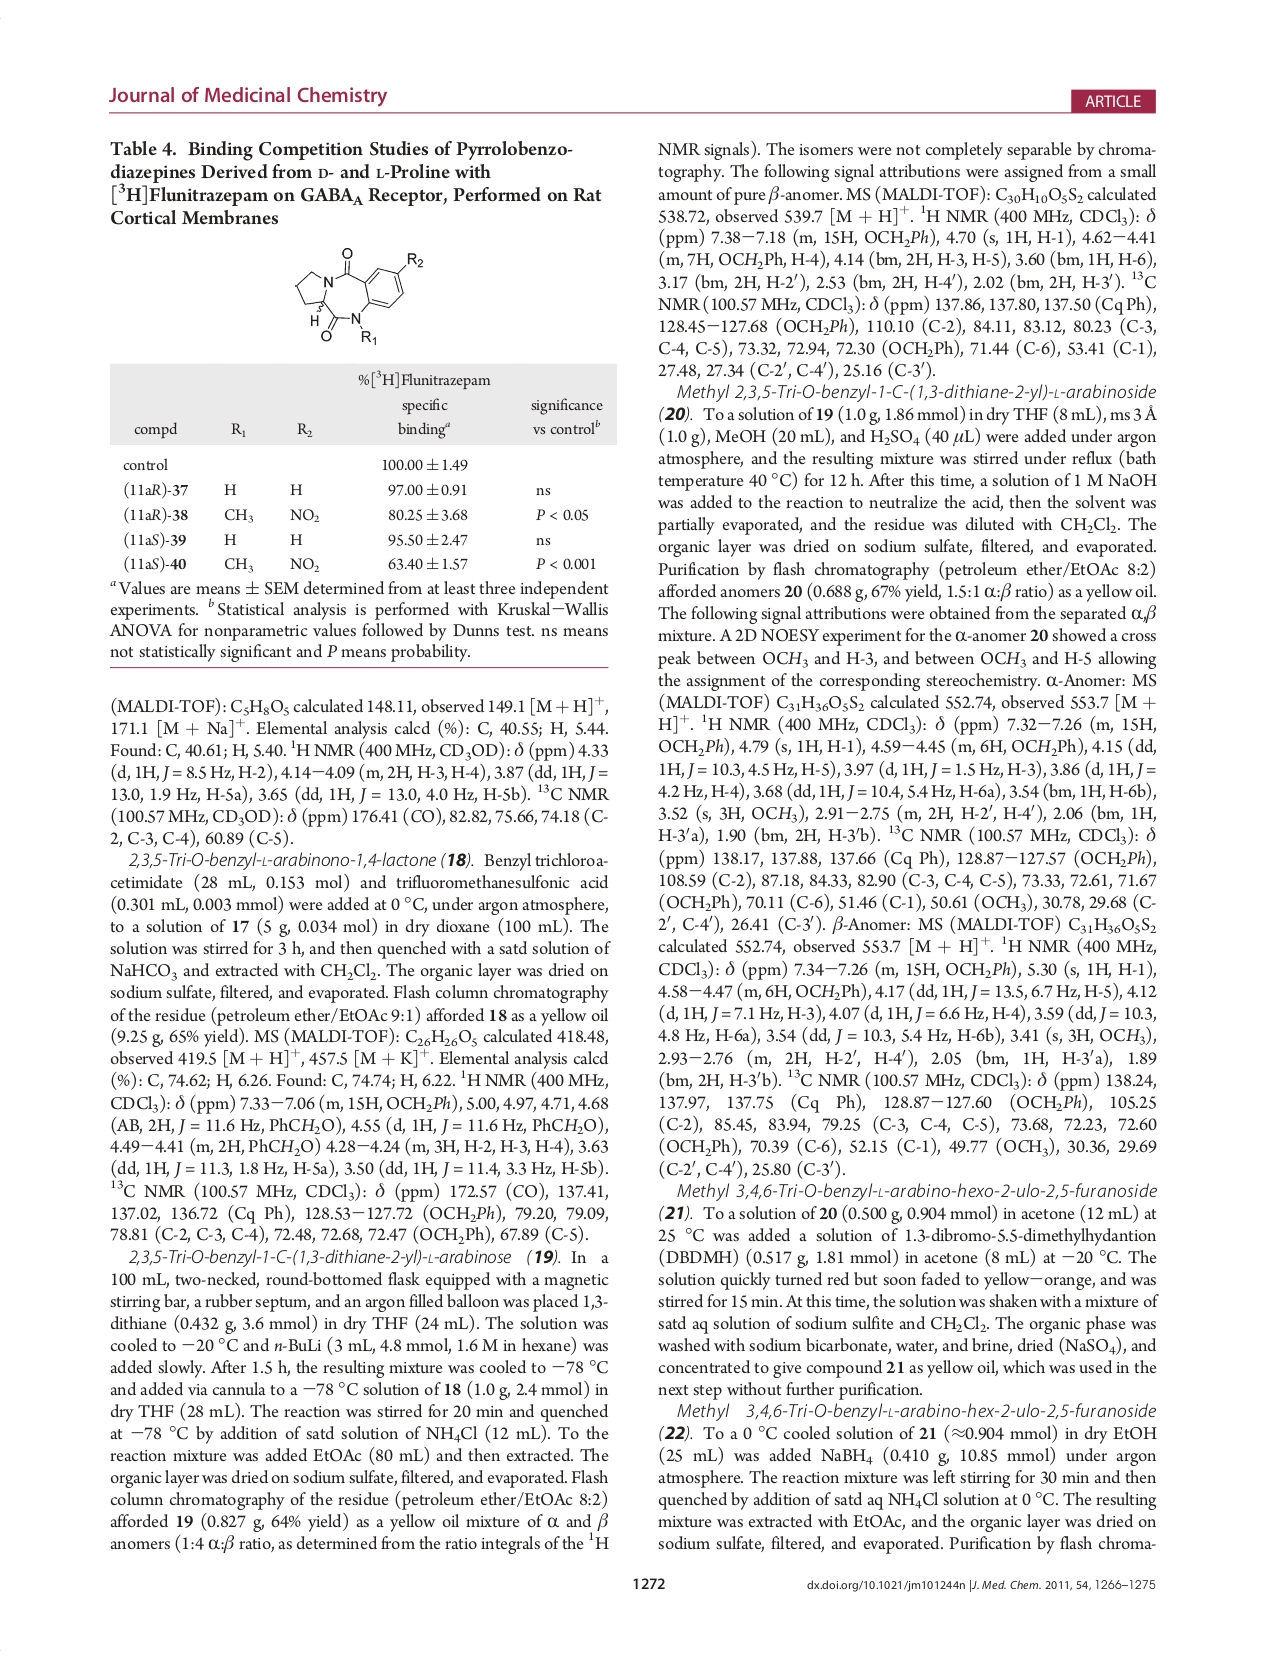exist_molecular: (290, 245, 428, 347)
